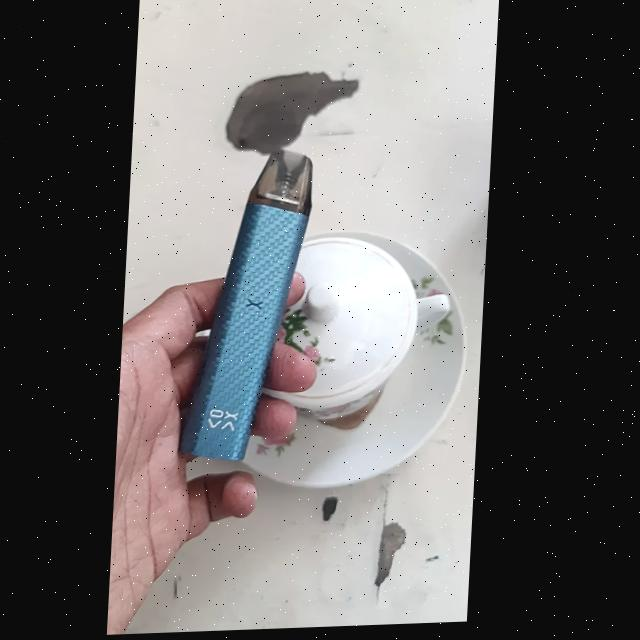vape: (180, 149, 318, 468)
